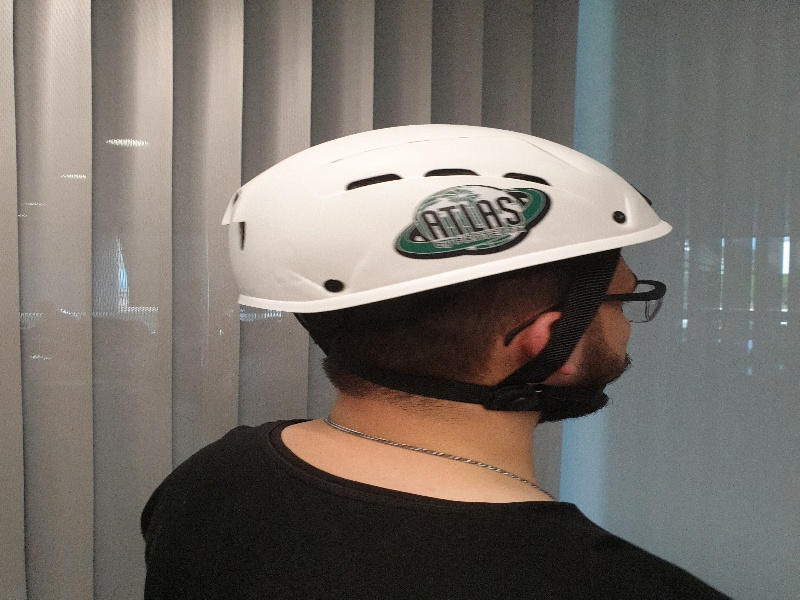Baret: (224, 122, 675, 282)
Gozluk: (571, 280, 666, 327)
